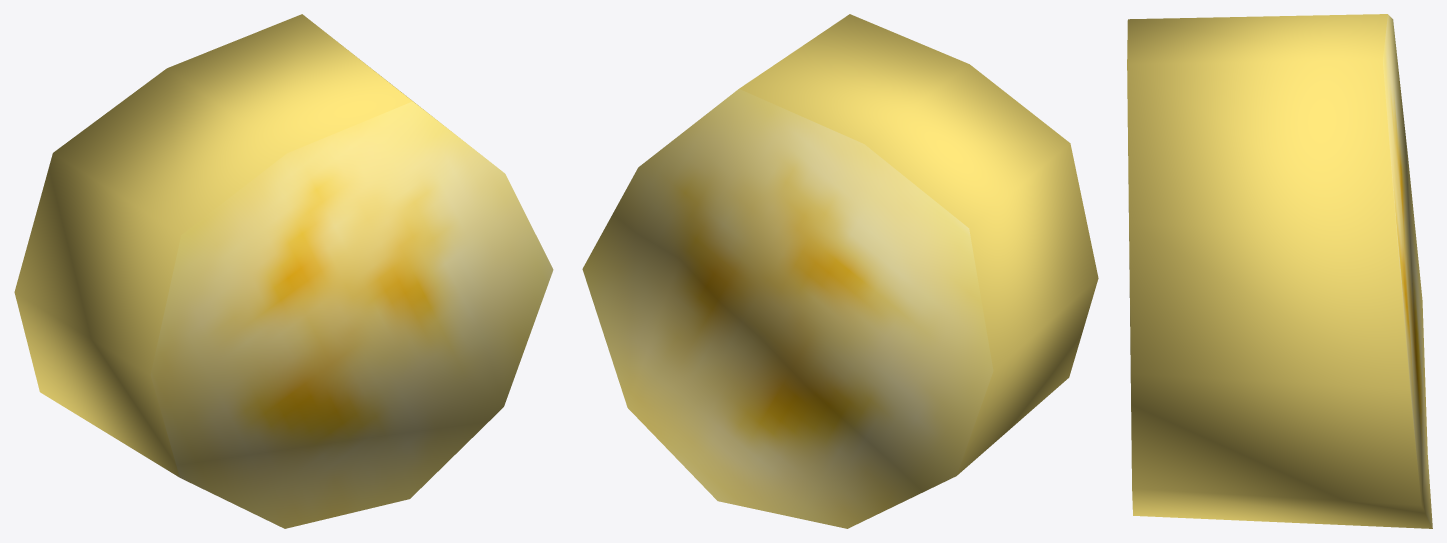
Rendered from Banana_Peeled_Slice_2.fbx.
The picture shows the model from 3 angles, left to right: view 1: azimuth 30°, elevation 25°; view 2: azimuth 150°, elevation 25°; view 3: azimuth 270°, elevation 25°; orthographic projection. The views are drawn at different scales.
Parts seen in each view (by area): view 1: SM_Prop_Banana_01.001; view 2: SM_Prop_Banana_01.001; view 3: SM_Prop_Banana_01.001.
Part boxes in pixels (x1,y1,x2,y2): SM_Prop_Banana_01.001: (14,14,553,528); SM_Prop_Banana_01.001: (582,14,1098,528); SM_Prop_Banana_01.001: (1127,14,1432,528).
Size of the model in its own units: 35.33 by 32.65 by 19.33.
